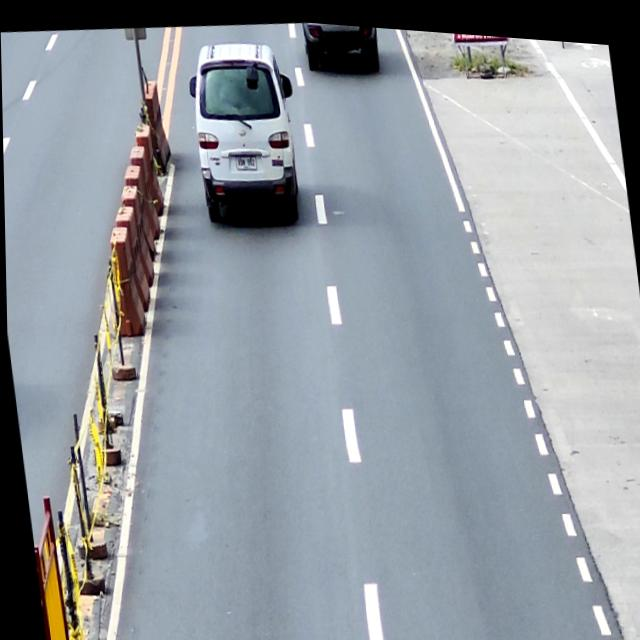Bicycle: (550, 32, 571, 42)
Car: (182, 30, 309, 230), (301, 18, 382, 74)
License-Plate: (234, 149, 257, 169)
